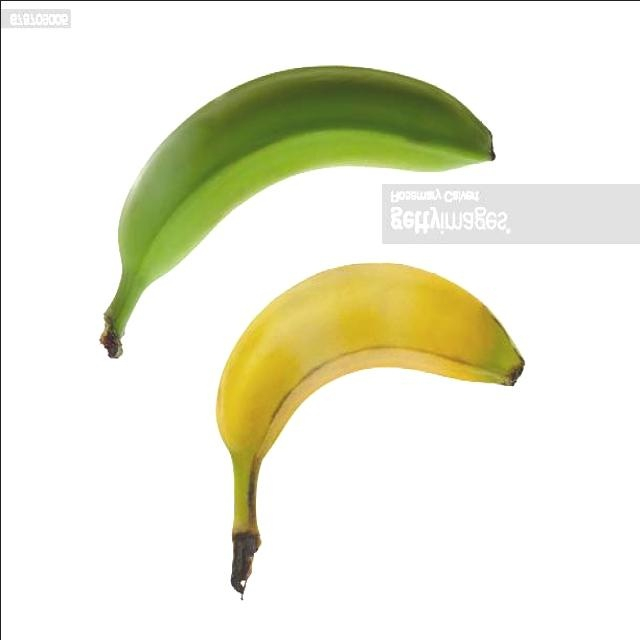agrume: (97, 61, 495, 359), (211, 263, 521, 601)
